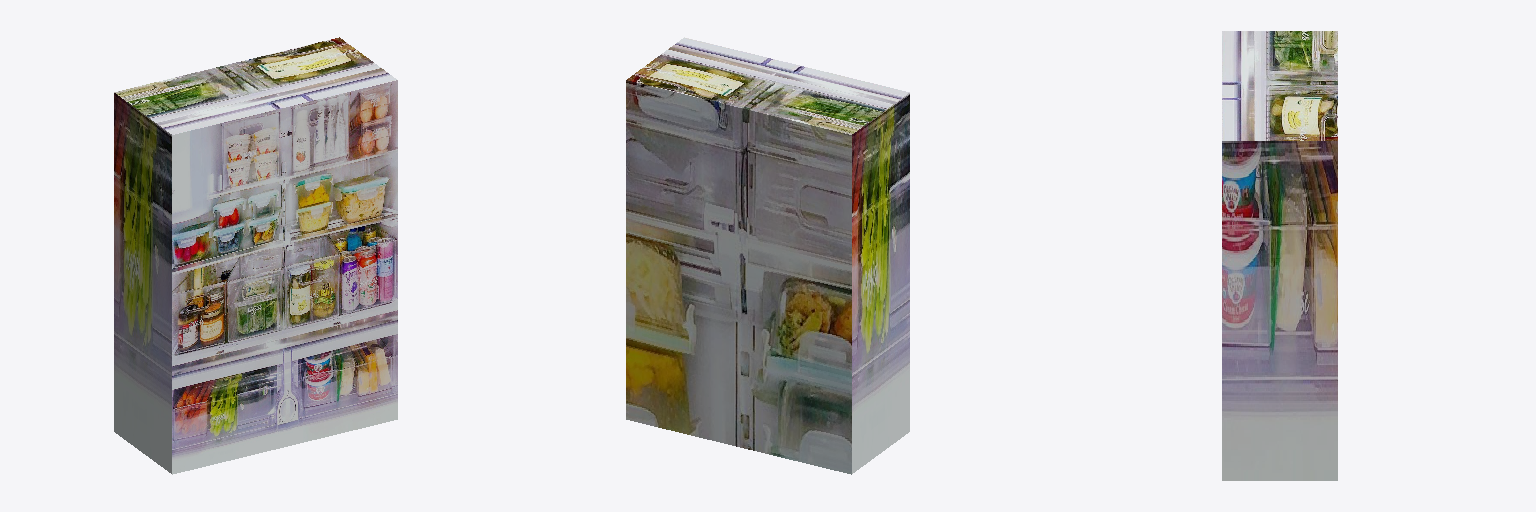
3 views of the same model, side by side, from view 1: azimuth 30°, elevation 25°; view 2: azimuth 150°, elevation 25°; view 3: azimuth 270°, elevation 25° (orthographic).
Visible parts, largest first — view 1: pCube1; view 2: pCube1; view 3: pCube1.
Part boxes in pixels (x1,y1,x2,y2): pCube1: (114,37,397,474); pCube1: (626,37,909,474); pCube1: (1222,31,1337,480).
Size of the model in its own units: 1.71 by 2.47 by 0.7688.
1 materials, 1 textured.